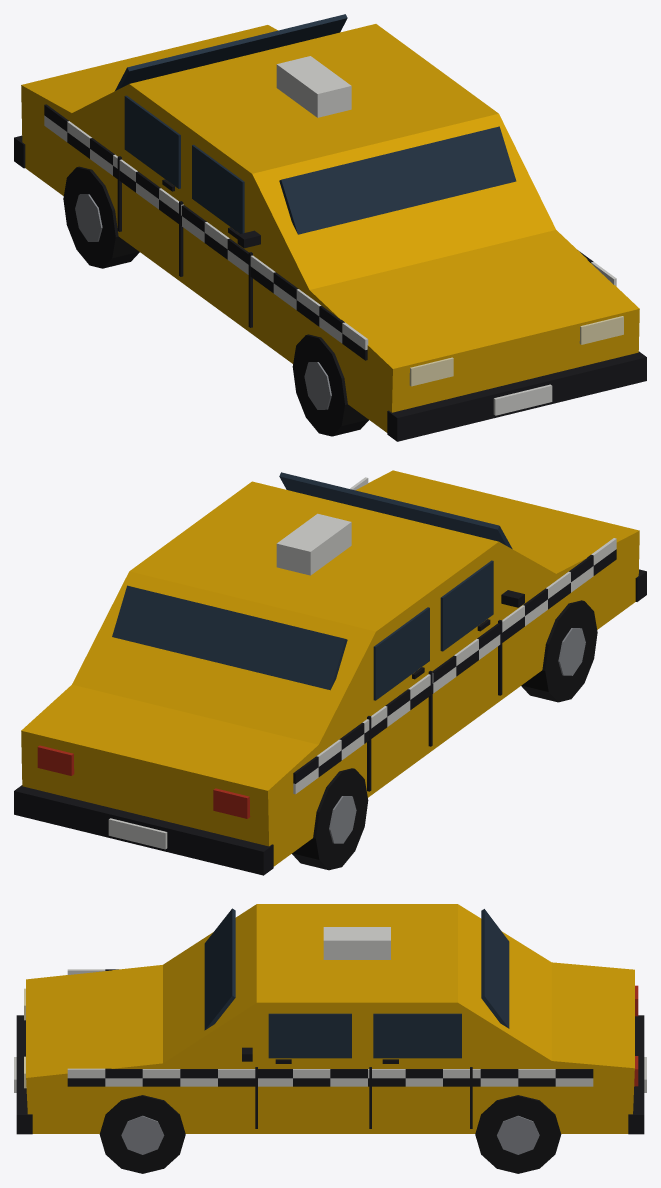
The model's file is veh_taxi.glb.
3 renders of one model, top to bottom at view 1: azimuth 30°, elevation 25°; view 2: azimuth 150°, elevation 25°; view 3: azimuth 270°, elevation 25°, orthographic. The views are drawn at different scales.
Parts seen in each view (by area): view 1: body, wheels; view 2: body, wheels; view 3: body, wheels.
Boxes of the visible parts, <box> form: body: <box>14,14,646,441</box>; wheels: <box>63,166,368,436</box>; body: <box>14,470,646,875</box>; wheels: <box>292,600,597,870</box>; body: <box>14,904,646,1134</box>; wheels: <box>99,1095,561,1173</box>.
Bounding box in the file's own units: 1.98 × 1.56 × 4.72.
